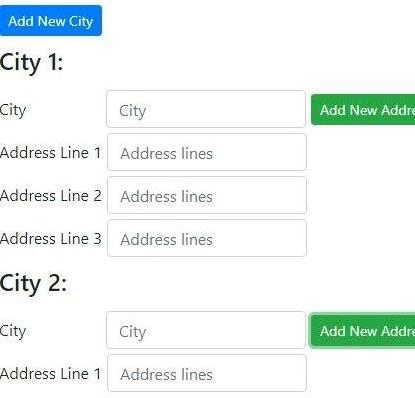field: (104, 88, 308, 130), (105, 175, 308, 216), (105, 131, 307, 172), (105, 218, 309, 258), (104, 311, 306, 350), (105, 354, 307, 393)
field_with_label: (0, 86, 309, 129), (0, 129, 307, 172), (0, 174, 309, 216), (1, 217, 310, 259), (0, 310, 307, 351), (0, 354, 309, 394)
